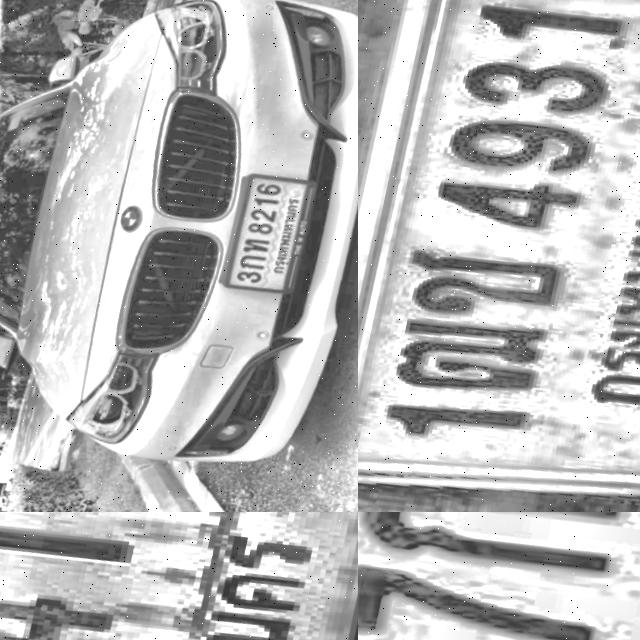license-plate: (358, 0, 640, 512), (0, 512, 358, 640), (358, 512, 640, 640), (212, 169, 324, 316)
